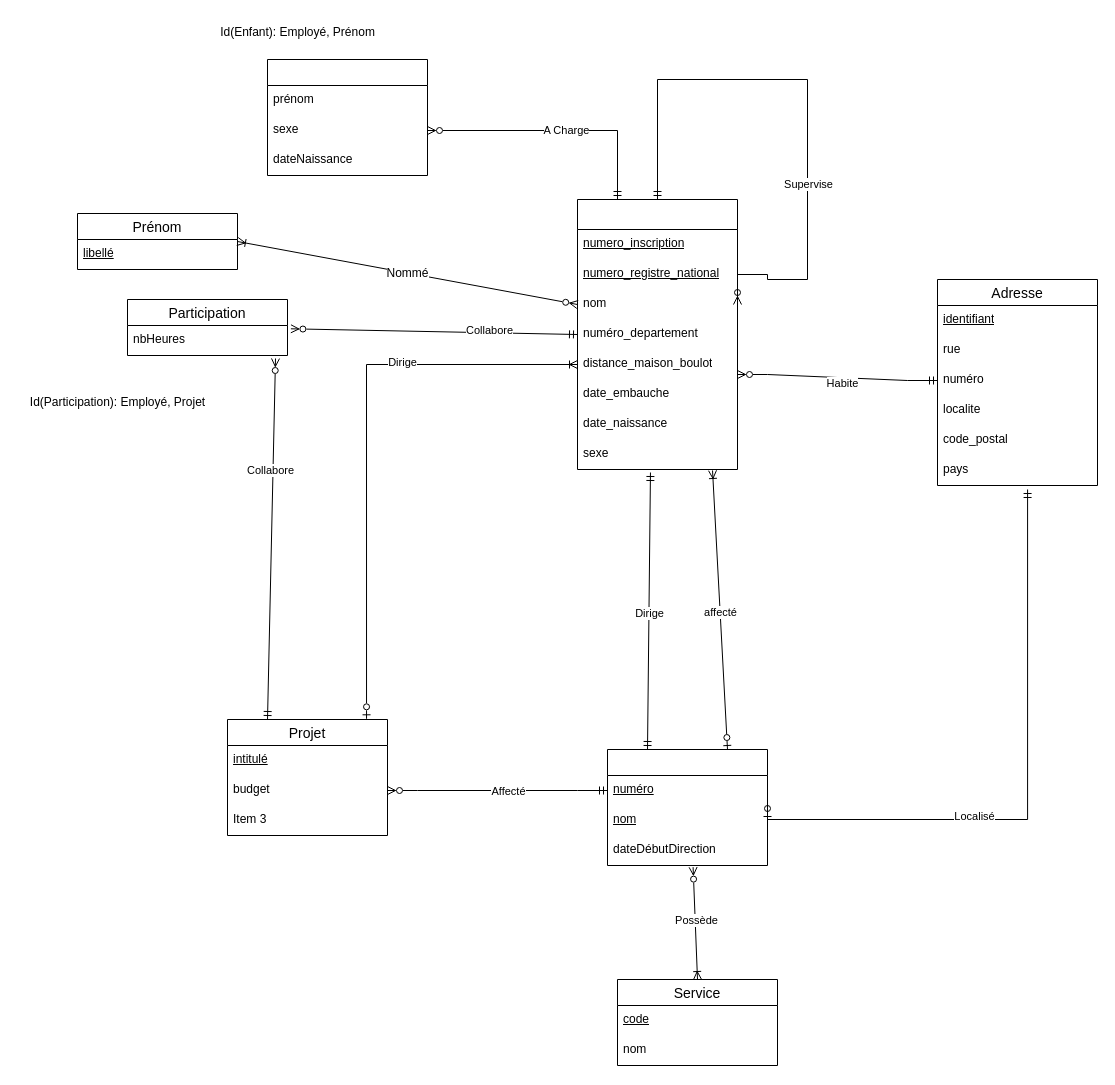
Some shapes in this 1115 by 1085 pixel diagram are drawn without their labels. Here are the shapes that lost their labels. From the top down, the box of each, then its label:
(266, 58, 428, 176): Enfant
(576, 198, 738, 470): Employé
(606, 748, 768, 866): Département
